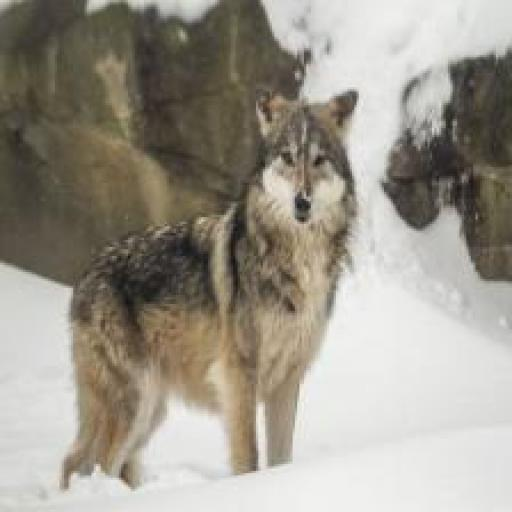wolf: (60, 82, 364, 492)
